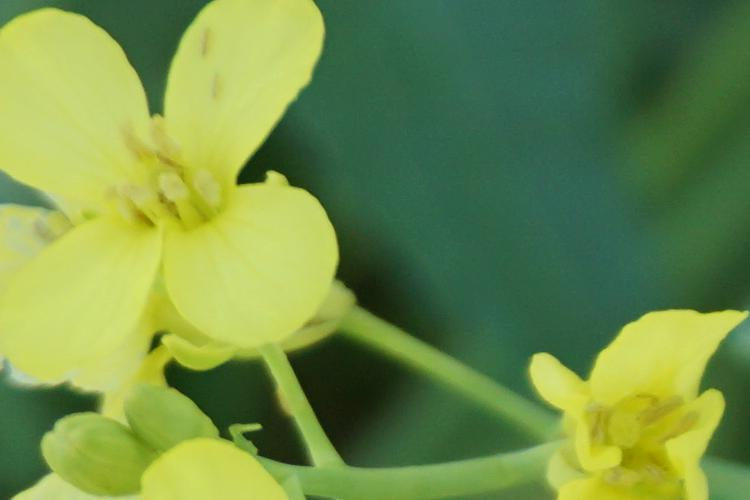bud: (36, 412, 160, 494), (126, 379, 222, 458)
yellow: (3, 2, 339, 385), (507, 280, 747, 500)
